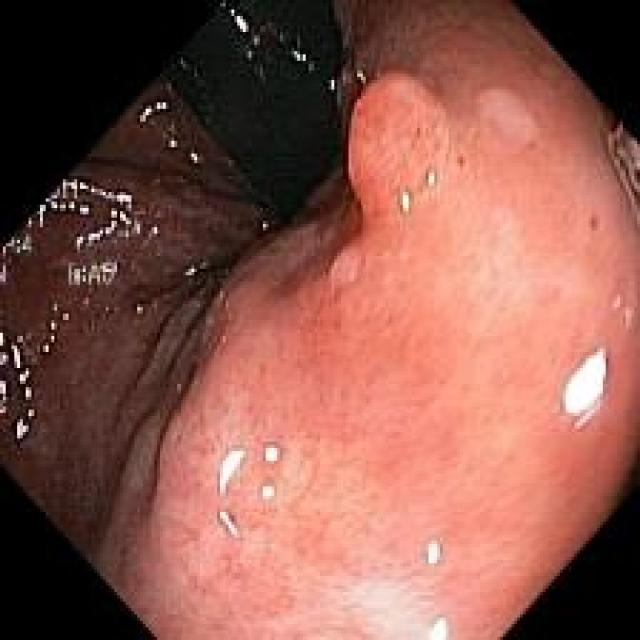Polyps: (350, 71, 449, 218)
